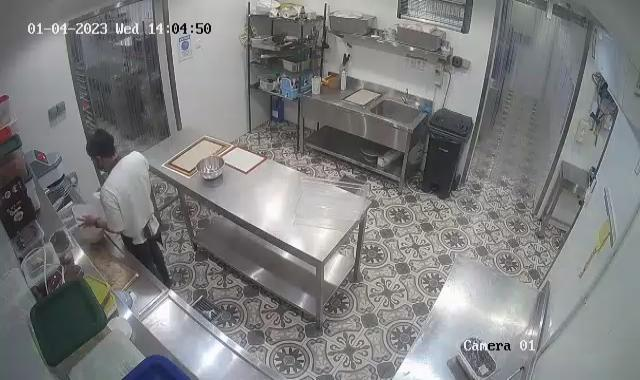no_hairnet: (85, 128, 118, 164)
